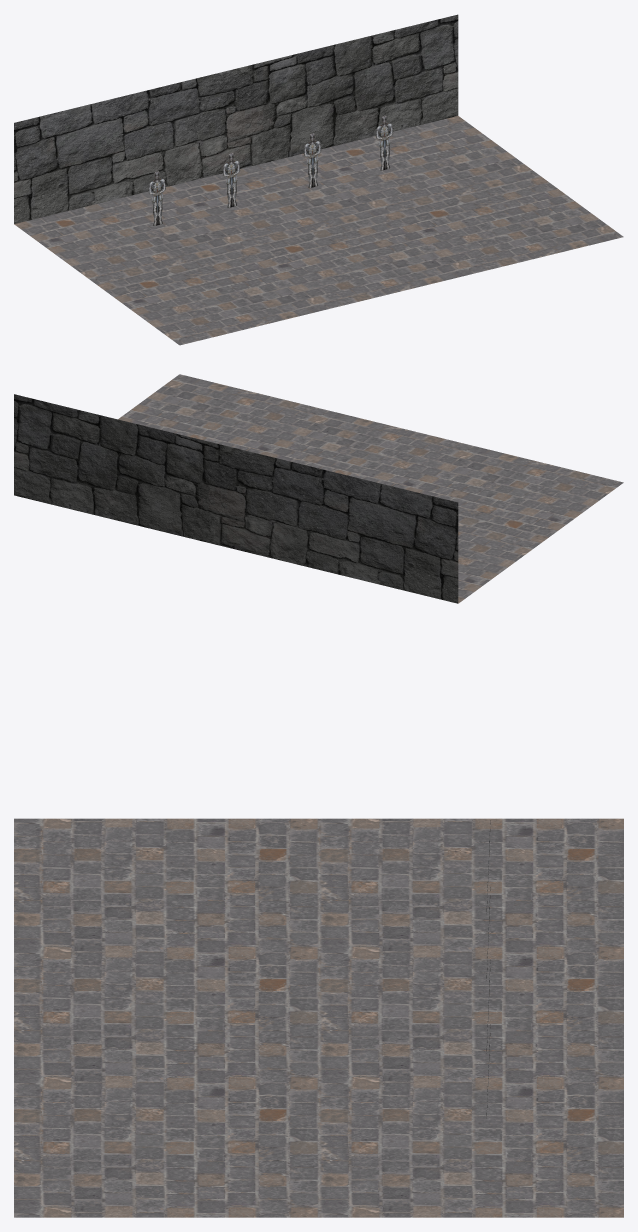
File: Level_Castle.fbx
3 renders of one model, top to bottom at view 1: azimuth 30°, elevation 25°; view 2: azimuth 150°, elevation 25°; view 3: azimuth 270°, elevation 25°, orthographic. The views are drawn at different scales.
Parts seen in each view (by area): view 1: Floor, Background, Armor_1, Armor_3, Armor_4, Armor_2; view 2: Background, Floor; view 3: Floor.
Boxes of the visible parts, x1,y1,x2,y2 form: Floor: (14,116,623,345); Background: (14,14,458,223); Armor_1: (148,171,165,225); Armor_3: (304,133,321,188); Armor_4: (376,115,393,170); Armor_2: (223,153,240,207); Background: (14,394,458,603); Floor: (118,374,623,603); Floor: (14,818,623,1217).
Bounding box in the file's own units: 628 × 137 × 405.
